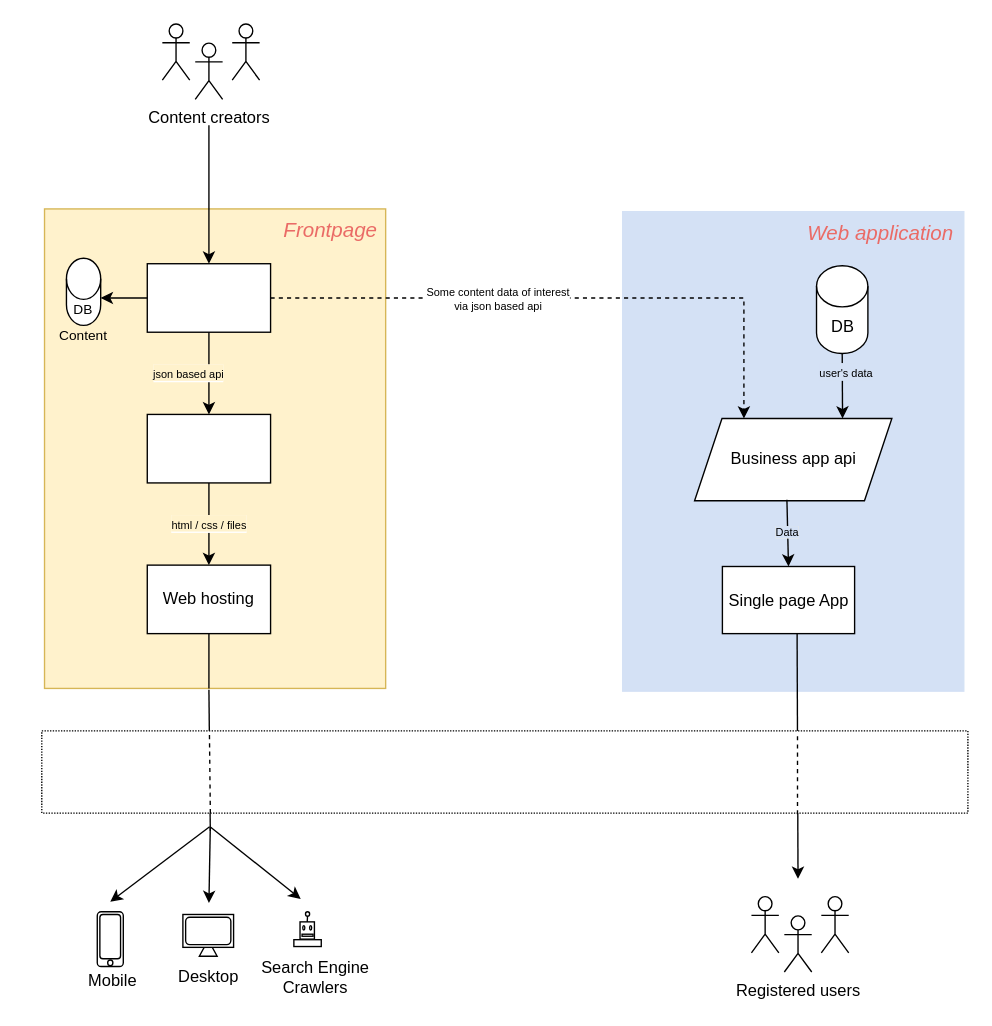
This 992x1026 diagram has some shape labels left out. The centre of each missing label's shape, as x and y in pixels:
CMS: pixel 208 297
SSG: pixel 208 448
WWW.MY-CUSTOM-DOMAIN.COM: pixel 504 771
